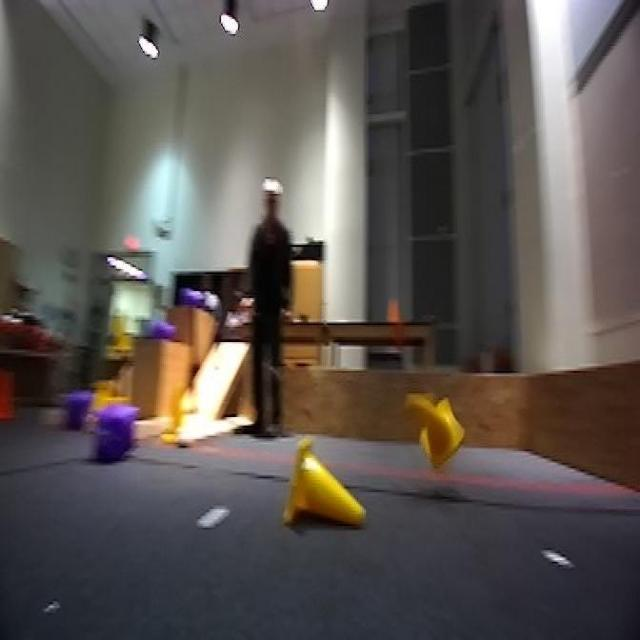frc_cone: (286, 438, 363, 524), (402, 392, 467, 472), (107, 296, 138, 361), (162, 381, 187, 441)
frc_cube: (98, 406, 135, 464), (57, 386, 94, 431), (182, 288, 218, 315), (145, 314, 179, 341)
